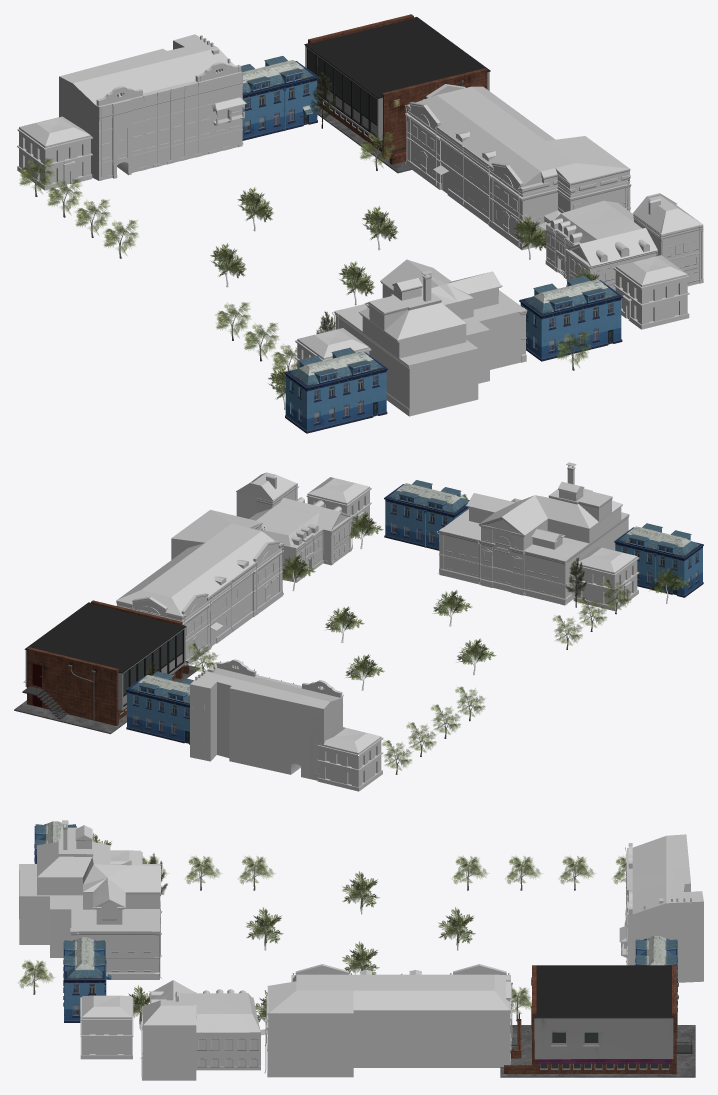
The model's file is environment.gltf.
3 views of the same model, one above another, from view 1: azimuth 30°, elevation 25°; view 2: azimuth 150°, elevation 25°; view 3: azimuth 270°, elevation 25° (orthographic). The views are drawn at different scales.
Visible parts, largest first — view 1: House_3, House_4, House_2, urban_building, House_1, Building_Apartment_10 (2), Building_Apartment_10, Building_Apartment_10 (1), Building_Apartment_13 (1), Building_Apartment_13, Building_Apartment_13 (2), baum ld0 (9) (+13 smaller); view 2: House_2, urban_building, House_3, House_4, House_1, Building_Apartment_10 (2), Building_Apartment_10, Building_Apartment_10 (1), Building_Apartment_13 (1), Building_Apartment_13 (2), Building_Apartment_13, baum ld0 (7) (+15 smaller); view 3: House_3, urban_building, House_2, House_1, House_4, Building_Apartment_13, Building_Apartment_10, Building_Apartment_10 (1), baum ld0 (4), baum ld0 (7), baum ld0 (8), baum ld0 (9) (+9 smaller).
Part boxes in pixels (box(x1,y1,x2,y2)): House_3: box(405, 84, 631, 250); House_4: box(59, 34, 246, 180); House_2: box(332, 259, 527, 416); urban_building: box(304, 14, 490, 173); House_1: box(545, 193, 703, 290); Building_Apartment_10 (2): box(284, 347, 387, 433); Building_Apartment_10: box(519, 275, 622, 361); Building_Apartment_10 (1): box(241, 56, 318, 140); Building_Apartment_13 (1): box(17, 116, 92, 190); Building_Apartment_13: box(613, 255, 689, 329); Building_Apartment_13 (2): box(295, 328, 371, 368); baum ld0 (9): box(362, 206, 398, 250); House_2: box(437, 462, 629, 605); urban_building: box(14, 600, 199, 734); House_3: box(116, 509, 284, 665); House_4: box(190, 659, 343, 780); House_1: box(236, 472, 353, 582); Building_Apartment_10 (2): box(614, 523, 703, 597); Building_Apartment_10: box(384, 480, 469, 550); Building_Apartment_10 (1): box(126, 671, 193, 744); Building_Apartment_13 (1): box(317, 727, 383, 791); Building_Apartment_13 (2): box(573, 546, 639, 610); Building_Apartment_13: box(306, 477, 371, 538); baum ld0 (7): box(433, 590, 472, 626); House_3: box(260, 964, 512, 1077); urban_building: box(500, 965, 695, 1077); House_2: box(19, 820, 162, 979); House_1: box(140, 980, 260, 1080); House_4: box(619, 834, 703, 982); Building_Apartment_13: box(80, 995, 133, 1059); Building_Apartment_10: box(63, 937, 111, 1022); Building_Apartment_10 (1): box(635, 936, 677, 1011); baum ld0 (4): box(342, 871, 379, 914); baum ld0 (7): box(246, 907, 283, 950); baum ld0 (8): box(438, 907, 475, 950); baum ld0 (9): box(342, 941, 379, 974).
Size of what is drawn, in the model's own units: 0.4753 by 0.1161 by 0.646.
